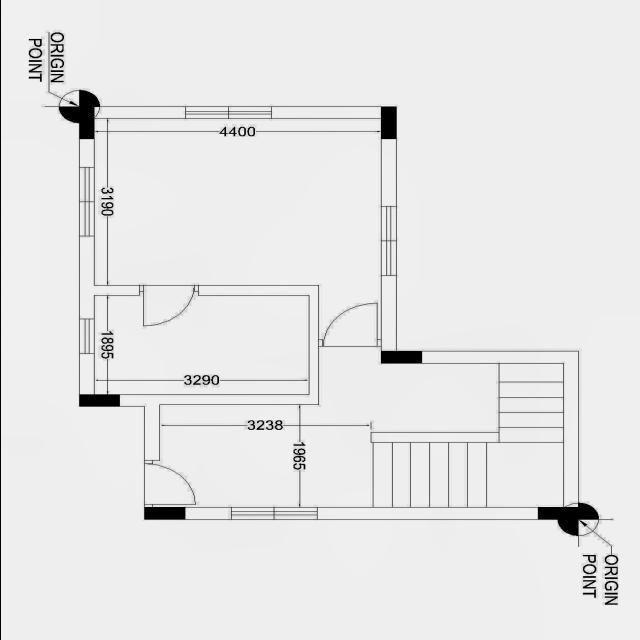Column: (78, 107, 95, 139), (537, 507, 577, 520), (380, 107, 396, 139), (143, 508, 184, 520), (78, 394, 118, 406), (380, 352, 420, 364)
Door: (315, 301, 383, 348), (136, 284, 200, 328), (142, 459, 196, 506)
Staircase: (368, 362, 564, 508)
Window: (376, 204, 398, 278), (182, 104, 274, 120), (76, 166, 95, 238), (228, 506, 318, 520), (77, 317, 94, 355)
